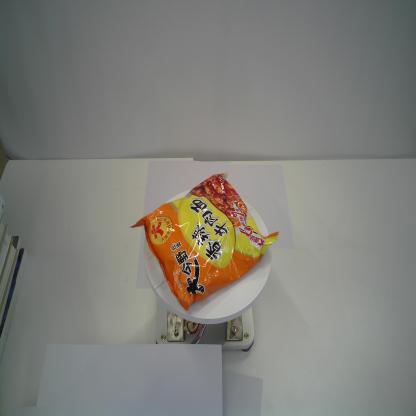Instant Noodles: (129, 172, 280, 312)
